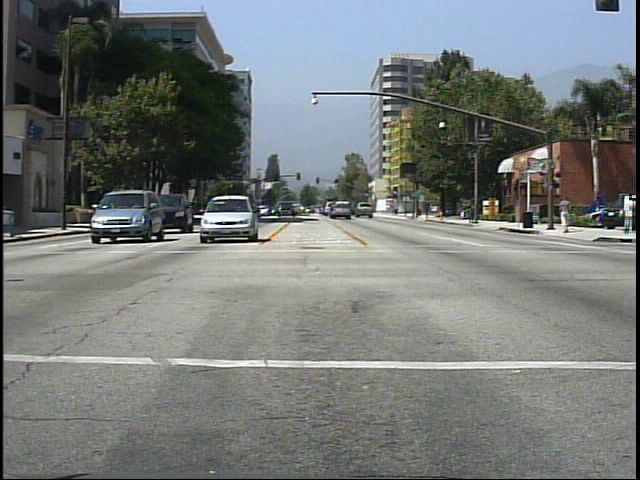person: (619, 189, 638, 239), (558, 193, 576, 236)
